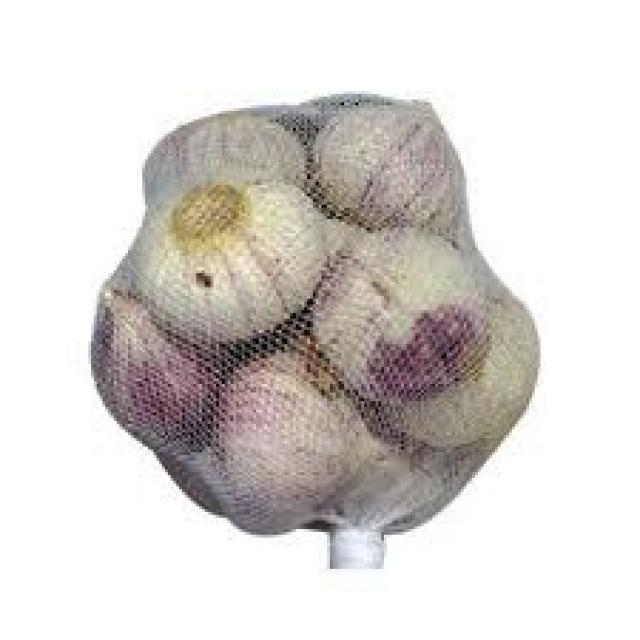organic waste: (140, 174, 322, 342), (307, 228, 475, 401), (211, 350, 364, 526), (376, 290, 538, 450), (91, 284, 222, 452), (313, 97, 461, 239), (140, 111, 304, 205)
